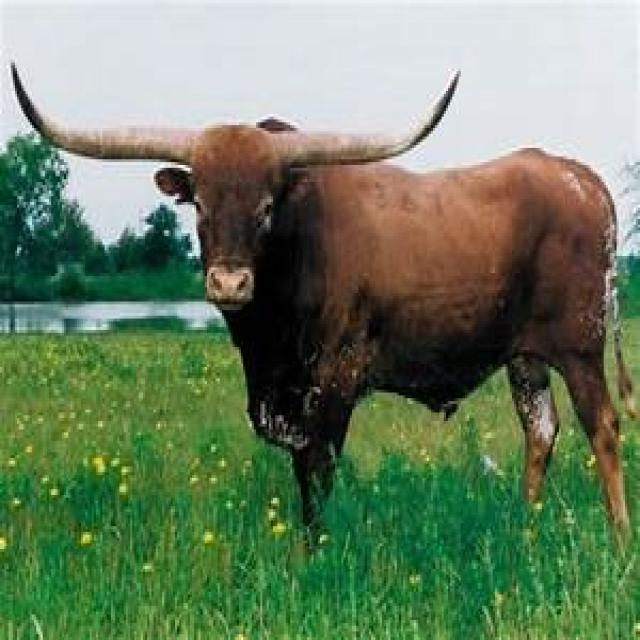cow: (11, 66, 625, 531)
